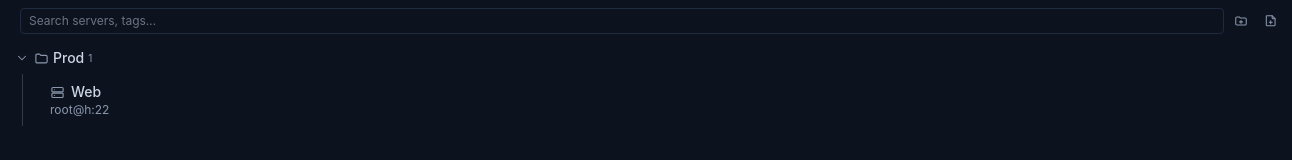
Test case: ServerTree › collapsing a folder hides its servers
This screenshot has width=1292, height=160.
Expected: the button with test id "server-row" is shown, x1=50 y1=83 x2=109 y2=117
Click the button named "Toggle folder". click: (22, 58)
box: x1=14 y1=50 x2=30 y2=66
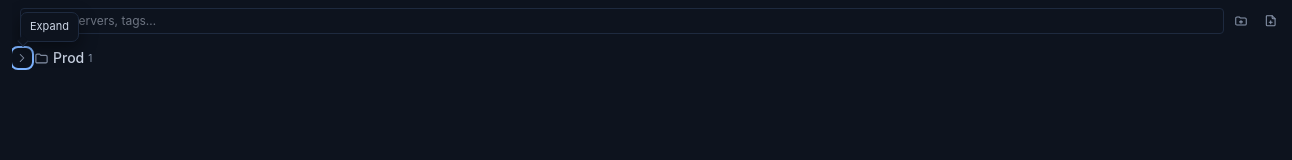
Expected: the button with test id "server-row" is gone
